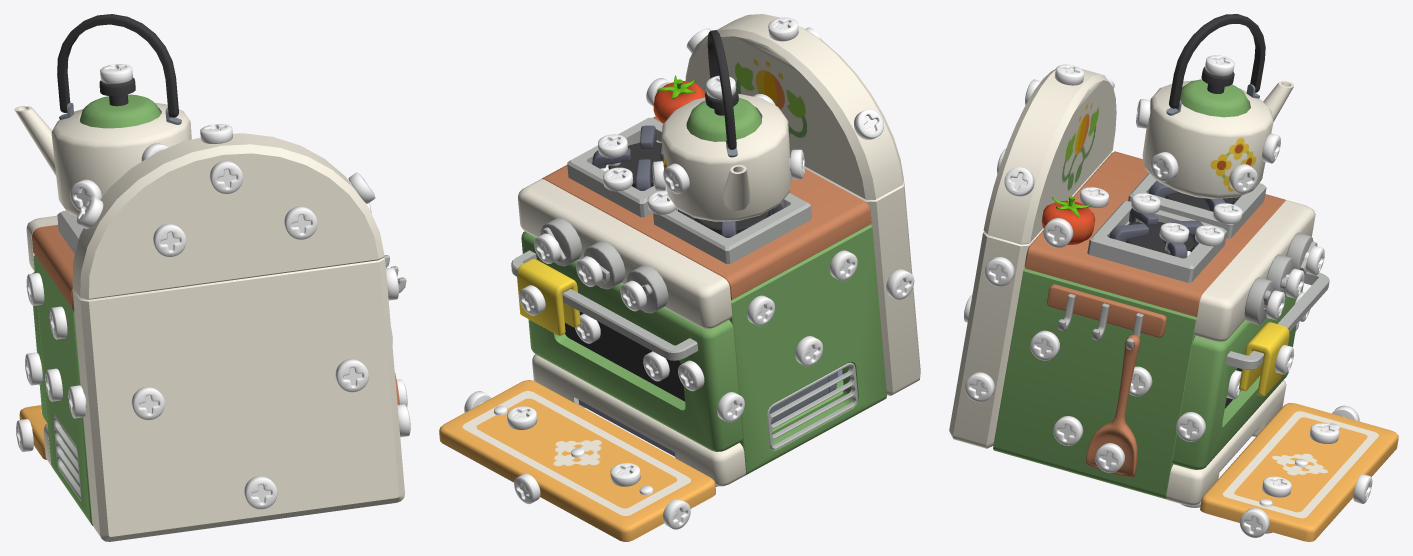
The model's file is Kettle_GroupE.fbx.
The picture shows the model from 3 angles, left to right: view 1: azimuth 30°, elevation 25°; view 2: azimuth 150°, elevation 25°; view 3: azimuth 270°, elevation 25°; orthographic projection. The views are drawn at different scales.
Parts seen in each view (by area): view 1: Kettle_032, Kettle_017, Kettle_026, Screw (×16), Kettle_005, Kettle_025, Kettle_004, Kettle_014, Kettle_024, Kettle_001, Kettle_002; view 2: Kettle_005, Kettle_002, Kettle_014, Kettle_017, Screw (×20), Kettle_026, Kettle_004, Kettle_001, Kettle_032, Kettle_003, Kettle_024, Kettle_010 (+6 smaller); view 3: Kettle_015, Kettle_014, Kettle_017, Screw (×19), Kettle_026, Kettle_002, Kettle_004, Kettle_032, Kettle_001, Kettle_010, Kettle_003, Kettle_024 (+6 smaller).
Boxes of the visible parts, x1,y1,x2,y2 form: Kettle_032: (72, 257, 404, 541); Kettle_017: (72, 133, 384, 299); Kettle_026: (14, 14, 191, 216); Screw (×16): (16, 64, 368, 509); Kettle_005: (33, 255, 92, 525); Kettle_025: (80, 77, 160, 128); Kettle_004: (32, 225, 74, 310); Kettle_014: (19, 405, 47, 459); Kettle_024: (57, 210, 83, 253); Kettle_001: (26, 215, 57, 271); Kettle_002: (32, 272, 47, 423); Kettle_005: (729, 224, 886, 475); Kettle_002: (511, 231, 742, 451); Kettle_014: (439, 380, 715, 541); Kettle_017: (685, 14, 903, 199); Screw (×20): (507, 17, 914, 529); Kettle_026: (661, 30, 791, 221); Kettle_004: (542, 116, 871, 300); Kettle_001: (518, 179, 732, 328); Kettle_032: (804, 166, 920, 395); Kettle_003: (532, 354, 745, 486); Kettle_024: (653, 193, 811, 264); Kettle_010: (567, 117, 667, 217); Kettle_015: (993, 268, 1196, 499); Kettle_014: (1200, 403, 1398, 541); Kettle_017: (983, 64, 1116, 244); Screw (×19): (965, 55, 1291, 537); Kettle_026: (1142, 14, 1294, 198); Kettle_002: (1172, 272, 1329, 469); Kettle_004: (1024, 151, 1285, 316); Kettle_032: (949, 151, 1112, 448); Kettle_001: (1194, 200, 1315, 341); Kettle_010: (1087, 201, 1226, 282); Kettle_003: (1166, 380, 1286, 505); Kettle_024: (1128, 173, 1266, 238).
Bounding box in the file's own units: 8.99 × 10.87 × 10.26.
3 materials, 2 textured.
